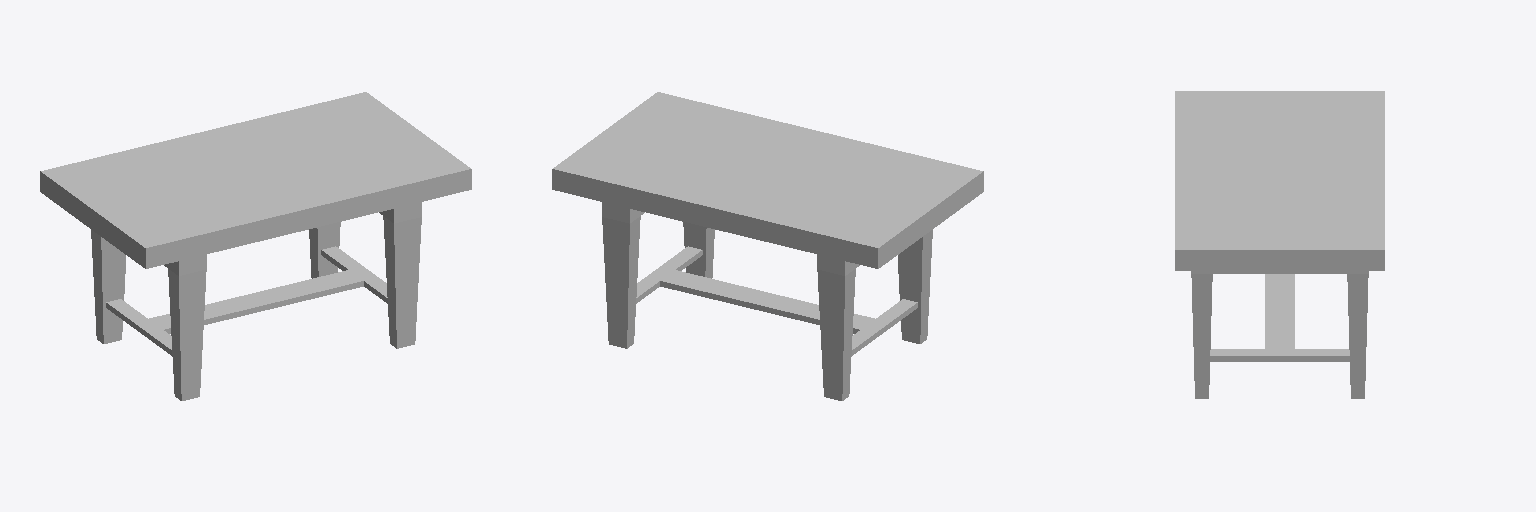
The model's file is Table.obj.
The picture shows the model from 3 angles: view 1: azimuth 30°, elevation 25°; view 2: azimuth 150°, elevation 25°; view 3: azimuth 270°, elevation 25°; orthographic projection.
Visible parts, largest first — view 1: Table_Cube.008; view 2: Table_Cube.008; view 3: Table_Cube.008.
Boxes of the visible parts, x1=… form: Table_Cube.008: x1=40, y1=92, x2=471, y2=400; Table_Cube.008: x1=552, y1=92, x2=983, y2=400; Table_Cube.008: x1=1175, y1=91, x2=1384, y2=398.
Bounding box in the file's own units: 1.87 × 0.9416 × 1.05.